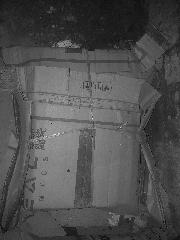paper: (11, 66, 161, 216), (19, 211, 67, 237)
